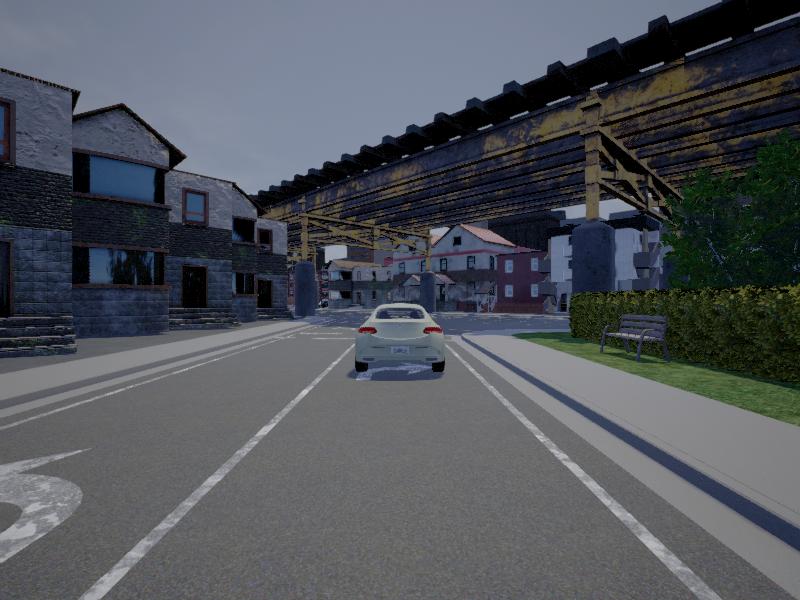Benign: (357, 304, 445, 370)
